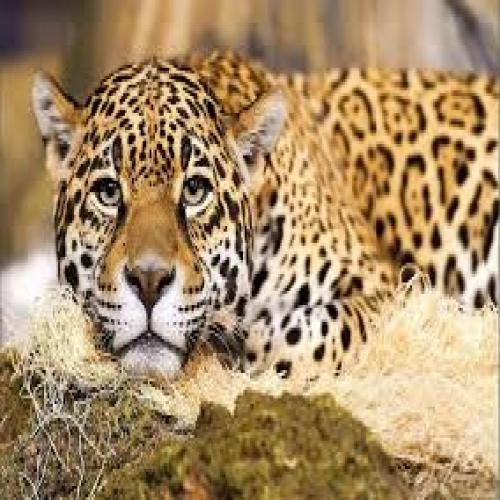jaguar_not-endangered: (30, 48, 500, 373)
